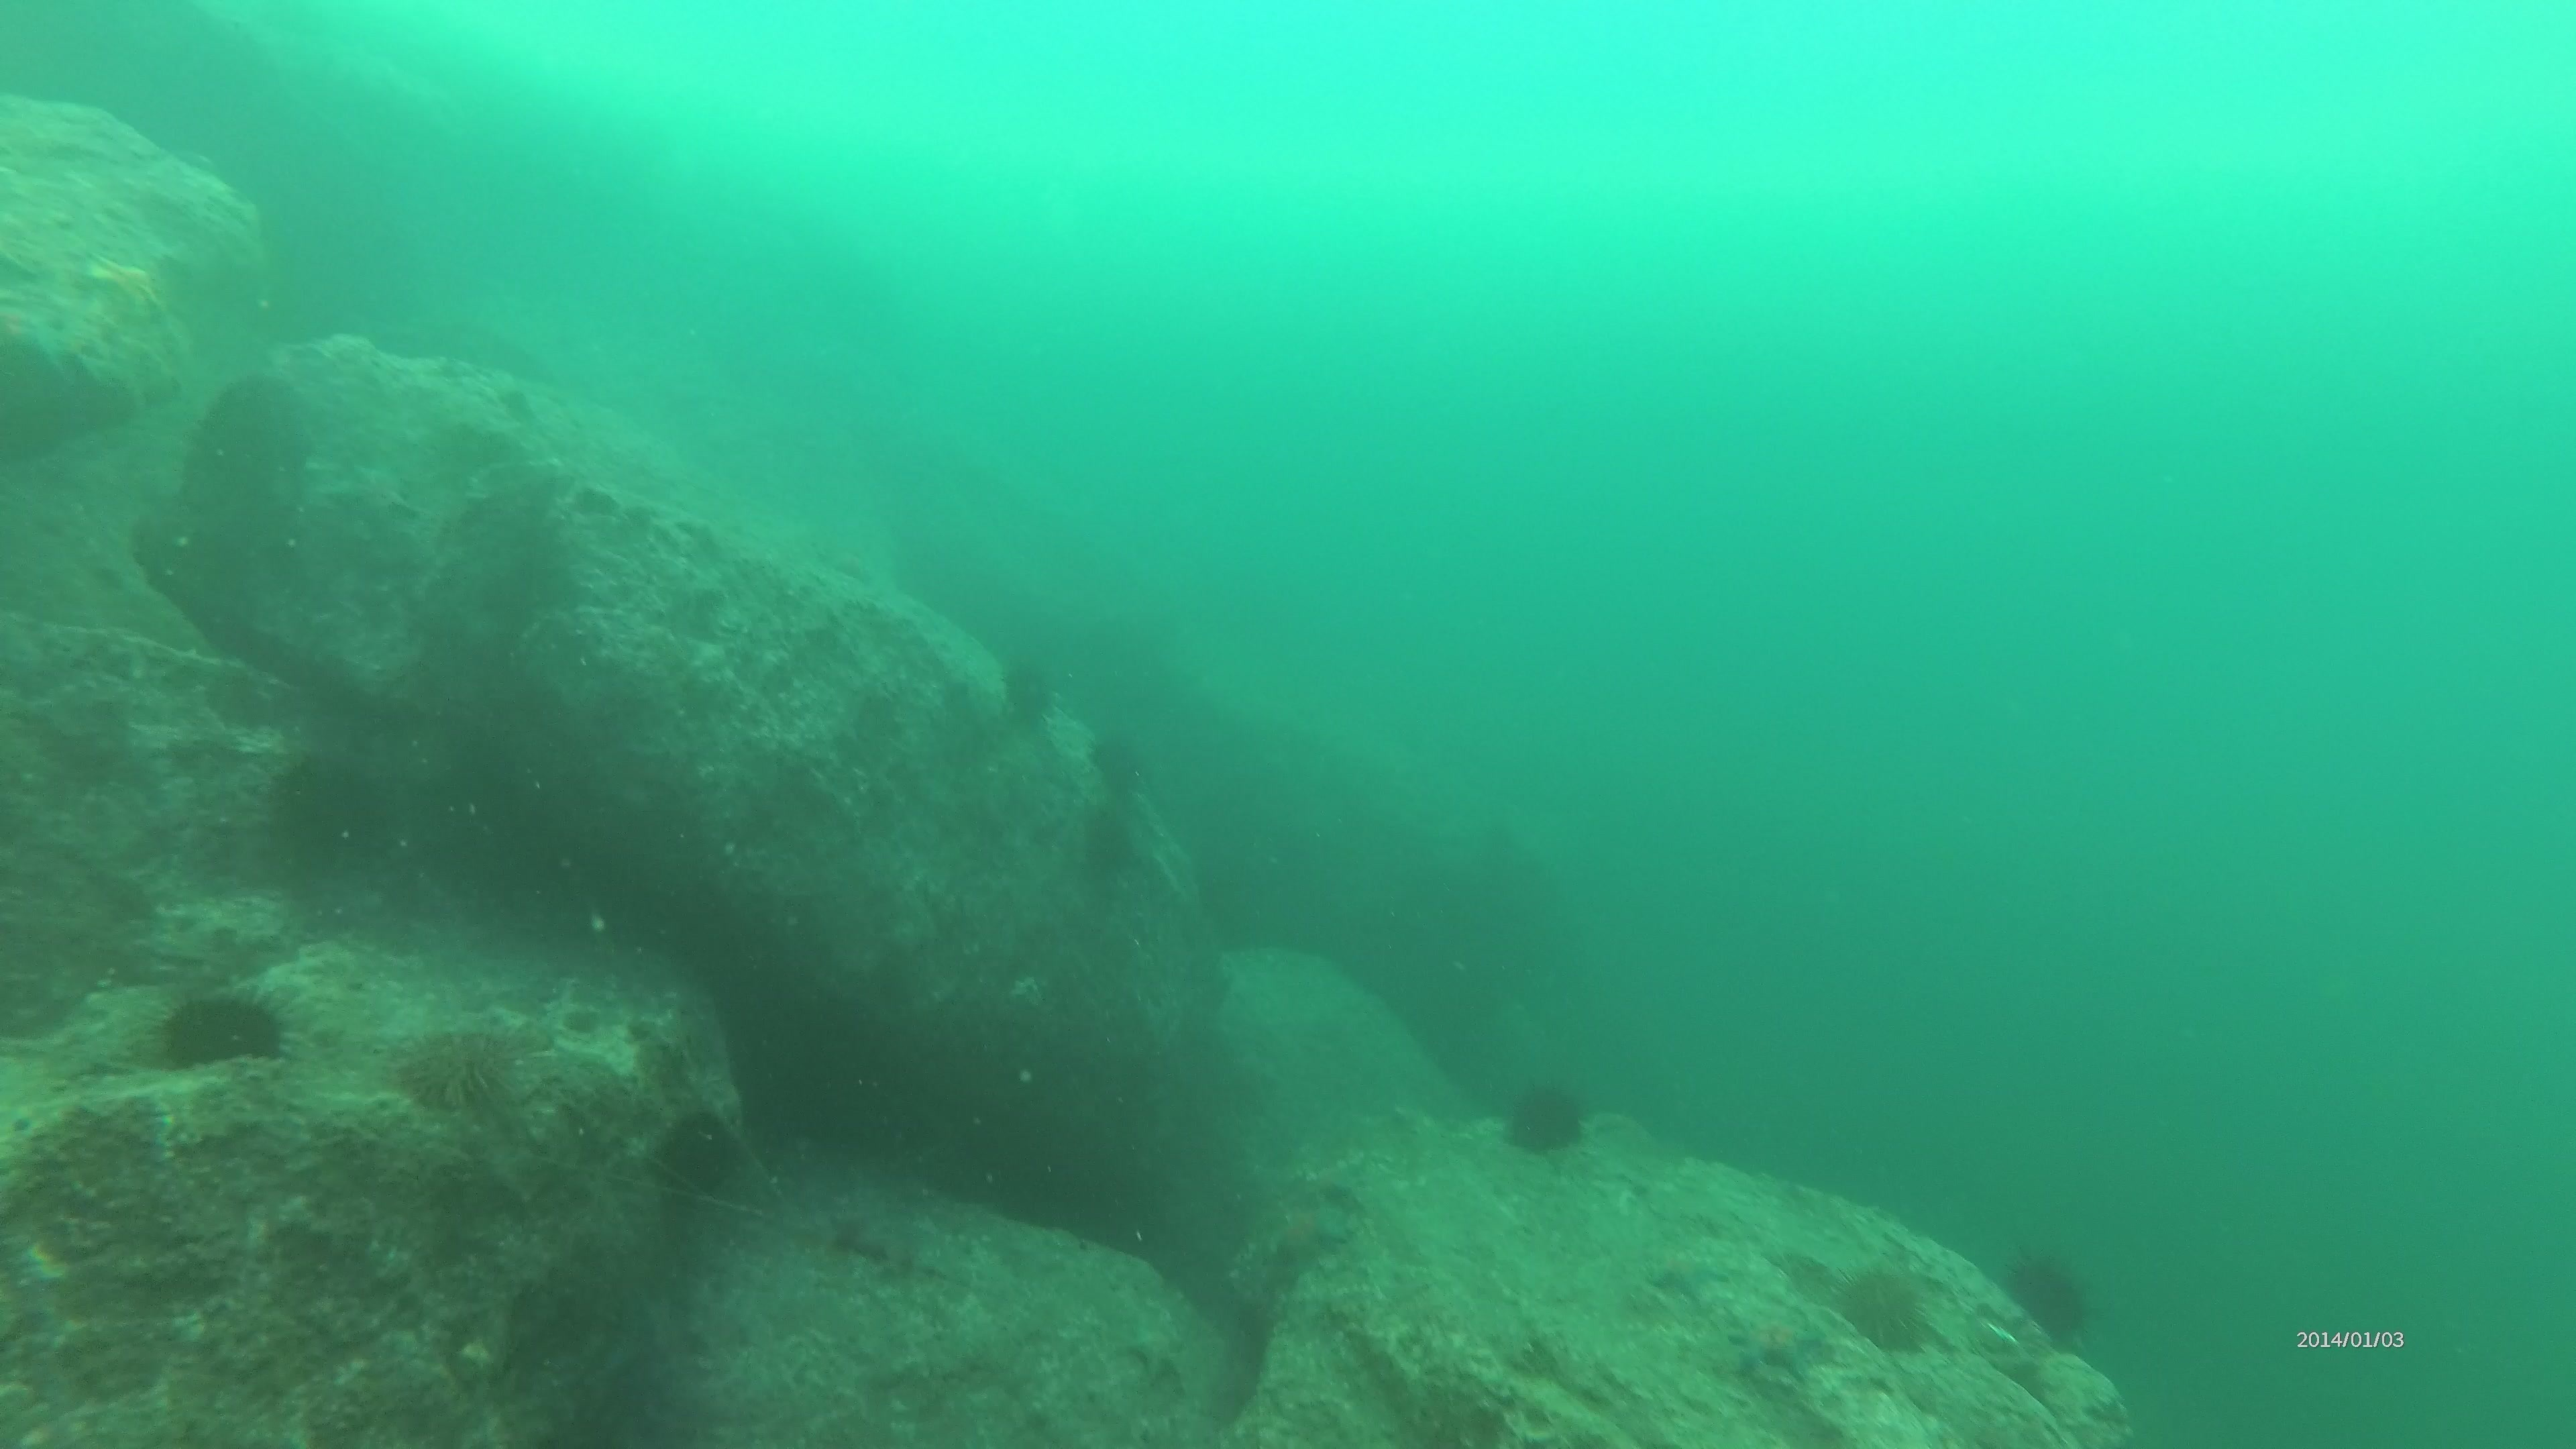echinus: (257, 745, 402, 885), (389, 1016, 533, 1123), (145, 978, 295, 1079), (1828, 1254, 1946, 1361), (1997, 1244, 2102, 1353), (648, 1102, 748, 1203), (1495, 1072, 1598, 1162), (994, 651, 1063, 736), (1088, 727, 1146, 794), (1090, 810, 1136, 870)
starfish: (1249, 1177, 1366, 1277), (1720, 1293, 1840, 1384), (74, 244, 177, 333), (1642, 1244, 1737, 1306)
